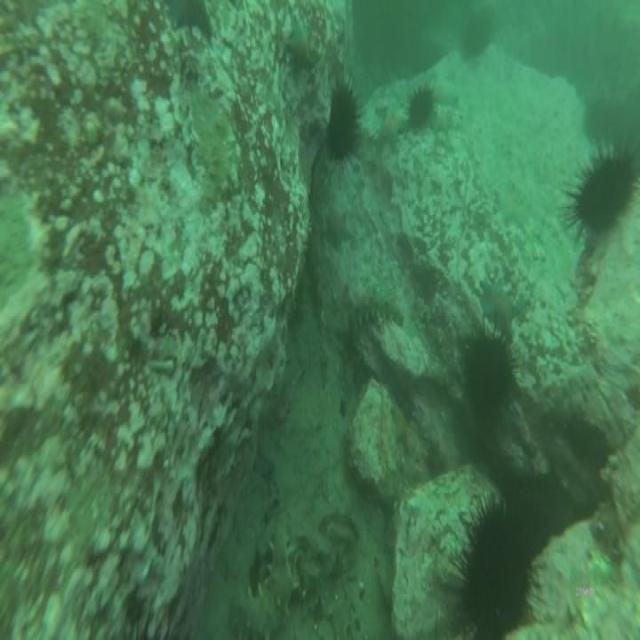echinus: (467, 512, 527, 631), (578, 148, 631, 228), (465, 337, 507, 406), (326, 87, 356, 156), (408, 87, 433, 131), (464, 21, 488, 54)
holothurian: (231, 529, 300, 640), (349, 288, 403, 334)
starfish: (482, 273, 517, 329), (377, 108, 402, 148)
